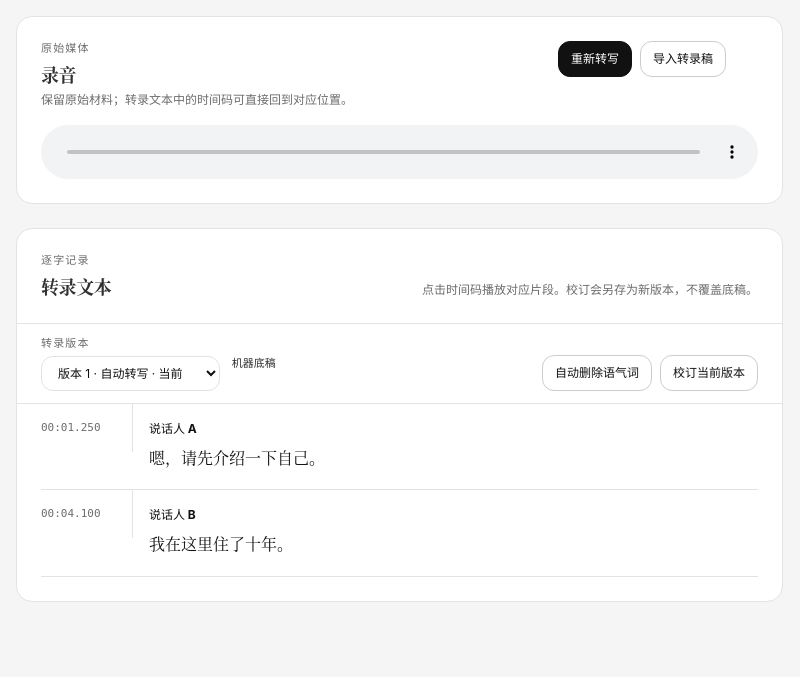
Test: MediaTranscriptWorkspace › creates a new version when the user removes fillers
The image size is (800, 677).
Expected: the text "说话人 A" is shown, [149,421,197,436]
Expected: the text "说话人 B" is shown, [149,507,196,522]
What coordinates should you click on to do the following:
click the button "自动删除语气词"
I would click on:
 (597, 373)
Its box is [542,355,652,391].
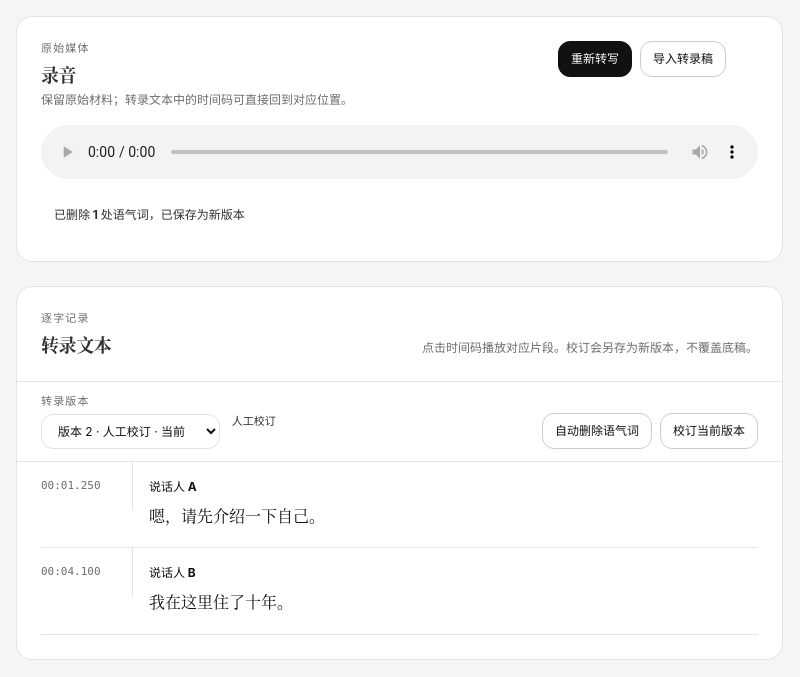
Result: the text "已删除 1 处语气词，已保存为新版本" is shown at [54,206,245,224]
